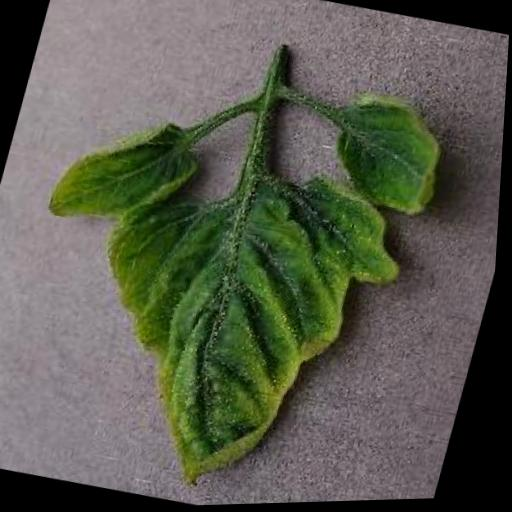Yellow Leaf Curl Virus: (54, 136, 423, 510), (44, 101, 216, 245), (310, 85, 458, 225)
